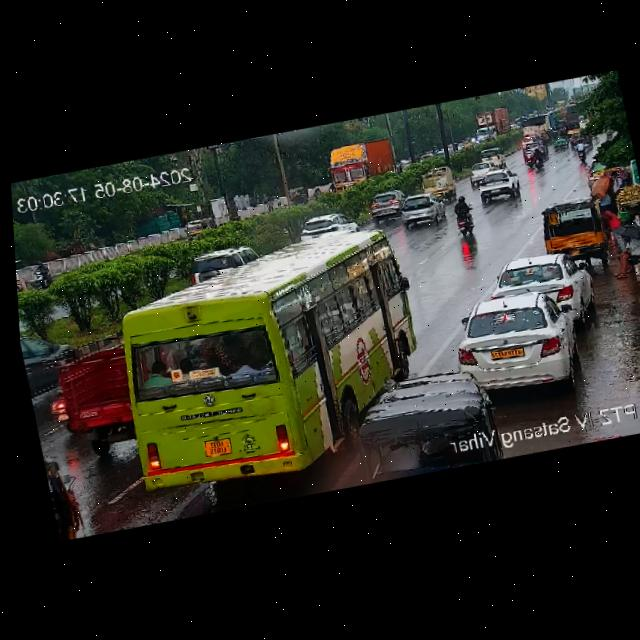bus: (102, 218, 441, 498)
car: (453, 289, 585, 390), (482, 245, 600, 337), (540, 198, 609, 271), (179, 240, 255, 280), (292, 210, 360, 246), (396, 190, 449, 229), (475, 163, 523, 206), (362, 188, 407, 227), (465, 156, 500, 188), (181, 212, 216, 240), (283, 179, 311, 208), (480, 144, 507, 169), (15, 252, 29, 300), (550, 128, 571, 152), (515, 133, 539, 151)
motorcycle: (22, 249, 58, 295), (447, 191, 478, 242), (568, 139, 590, 167), (308, 179, 326, 204), (529, 148, 547, 171), (261, 192, 279, 214), (521, 149, 537, 171)
person: (602, 204, 633, 273), (609, 218, 640, 283), (593, 171, 615, 218), (605, 165, 625, 201)
truck: (52, 351, 138, 450), (320, 133, 398, 189), (469, 106, 511, 143), (418, 162, 457, 200), (517, 110, 556, 144)
